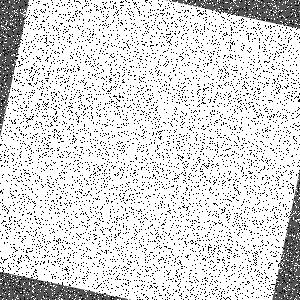SMG: (14, 0, 277, 300)
